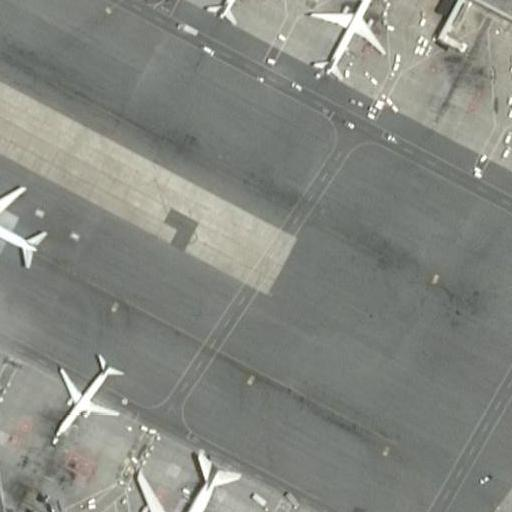Aircraft: (130, 440, 259, 512), (44, 347, 126, 448), (305, 0, 393, 79), (0, 182, 51, 279), (195, 0, 284, 27), (510, 77, 512, 193)
